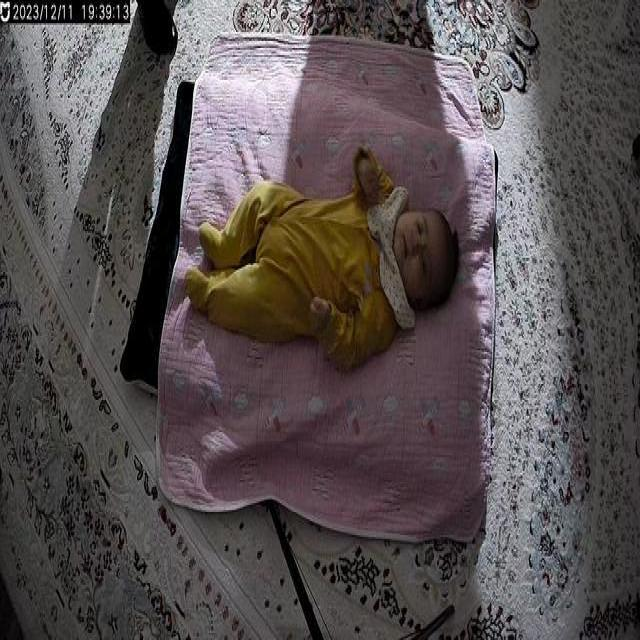baby: (186, 141, 467, 380)
